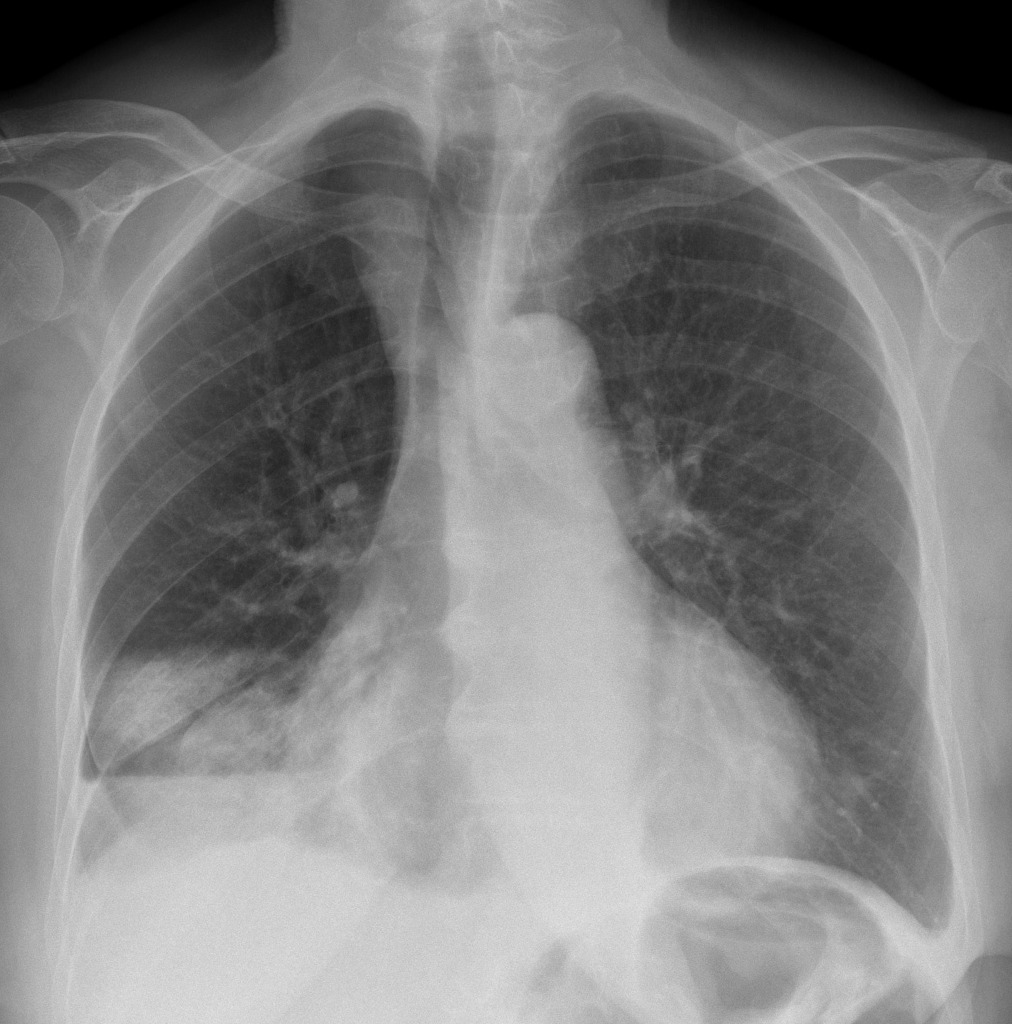cancer: (50, 303, 323, 797), (538, 216, 777, 663)
